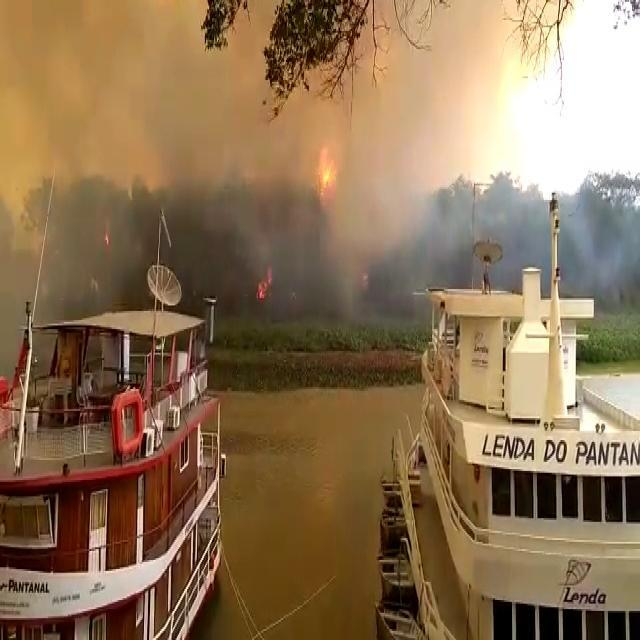Fire: (312, 148, 343, 213), (255, 274, 278, 306)
Smoke: (14, 12, 249, 175), (354, 60, 460, 261), (569, 174, 633, 301)
